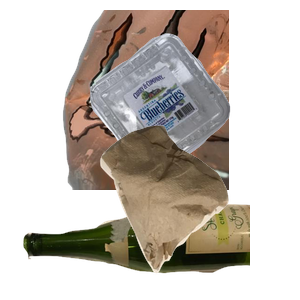glass: (21, 201, 261, 300)
metal: (60, 10, 300, 190)
plastic: (88, 31, 300, 198)
trash: (98, 123, 300, 300)
